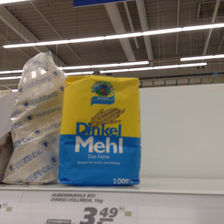flour: (59, 76, 142, 186)
